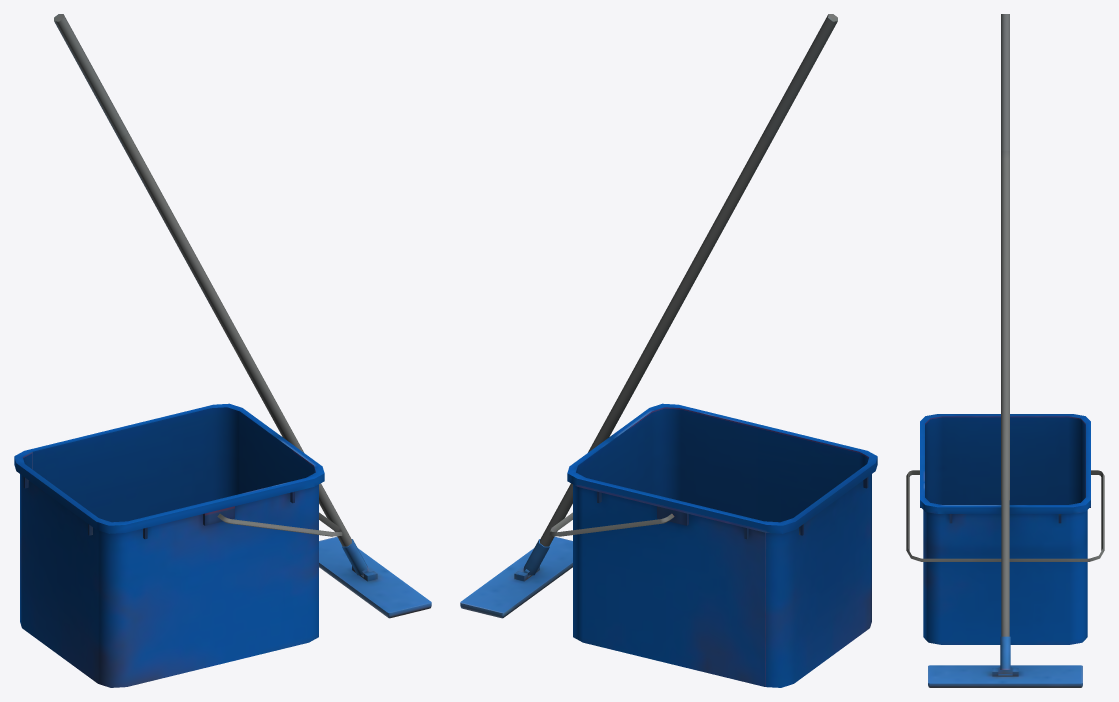
The model's file is mop_bucket.632adf7429.glb.
The picture shows the model from 3 angles, left to right: view 1: azimuth 30°, elevation 25°; view 2: azimuth 150°, elevation 25°; view 3: azimuth 270°, elevation 25°; orthographic projection. The views are drawn at different scales.
Parts seen in each view (by area): view 1: mop_bucket; view 2: mop_bucket; view 3: mop_bucket.
Part boxes in pixels (box(x1,y1,x2,y2)): mop_bucket: box(14, 14, 431, 687); mop_bucket: box(460, 14, 877, 687); mop_bucket: box(906, 14, 1104, 687).
Size of the model in its own units: 0.7928 by 1.46 by 0.4838.
Materials: 1 (1 with a texture image).
